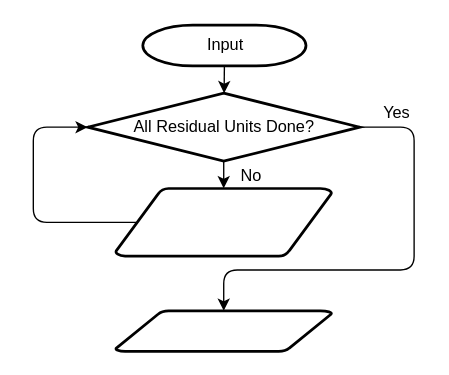
This 449x375 diagram has some shape labels left out. Here are the shapes that lost their labels. From the top down, the centre of each, then its label:
the point at 223,221: Residual Unit
the point at 223,330: Mask Output
